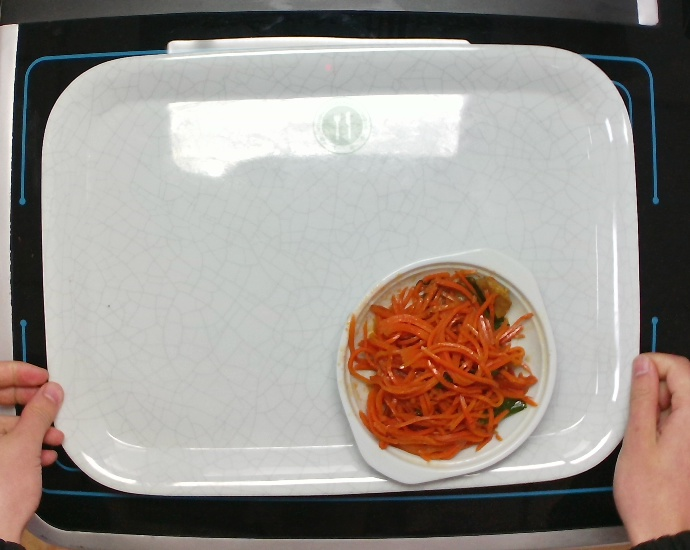JYsf-Shuang_Er_Pan: (332, 246, 561, 486)
